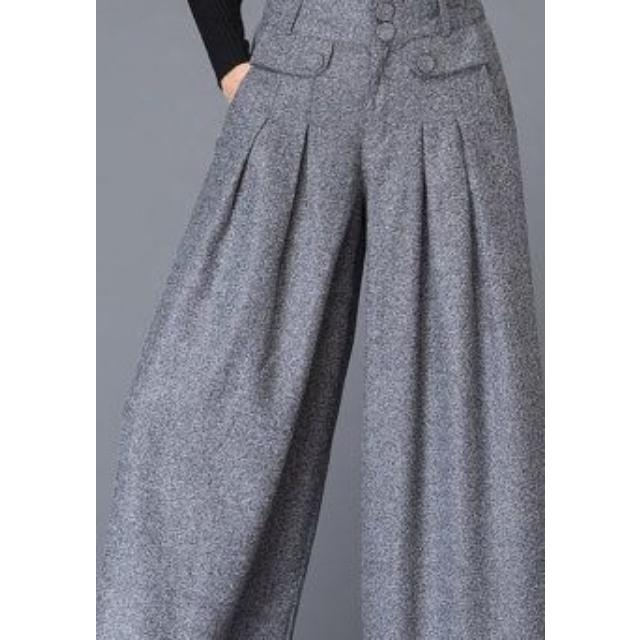wool: (96, 0, 544, 640)
